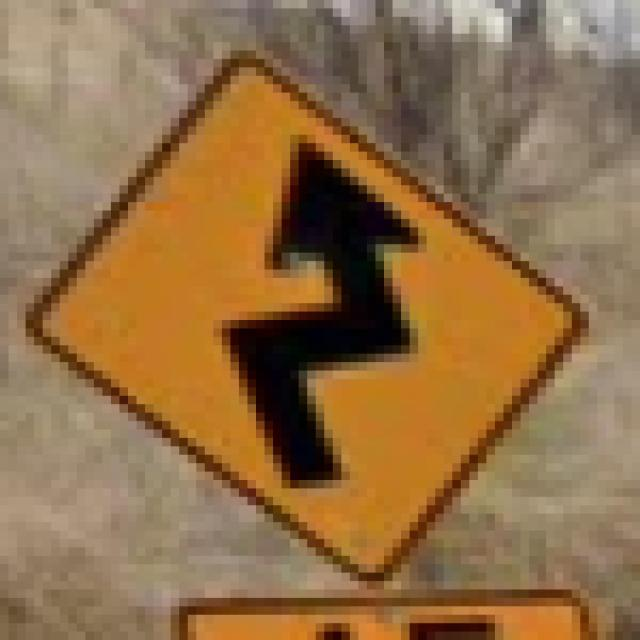Tikungan Ganda Pertama Ke Kanan: (9, 34, 598, 581)
